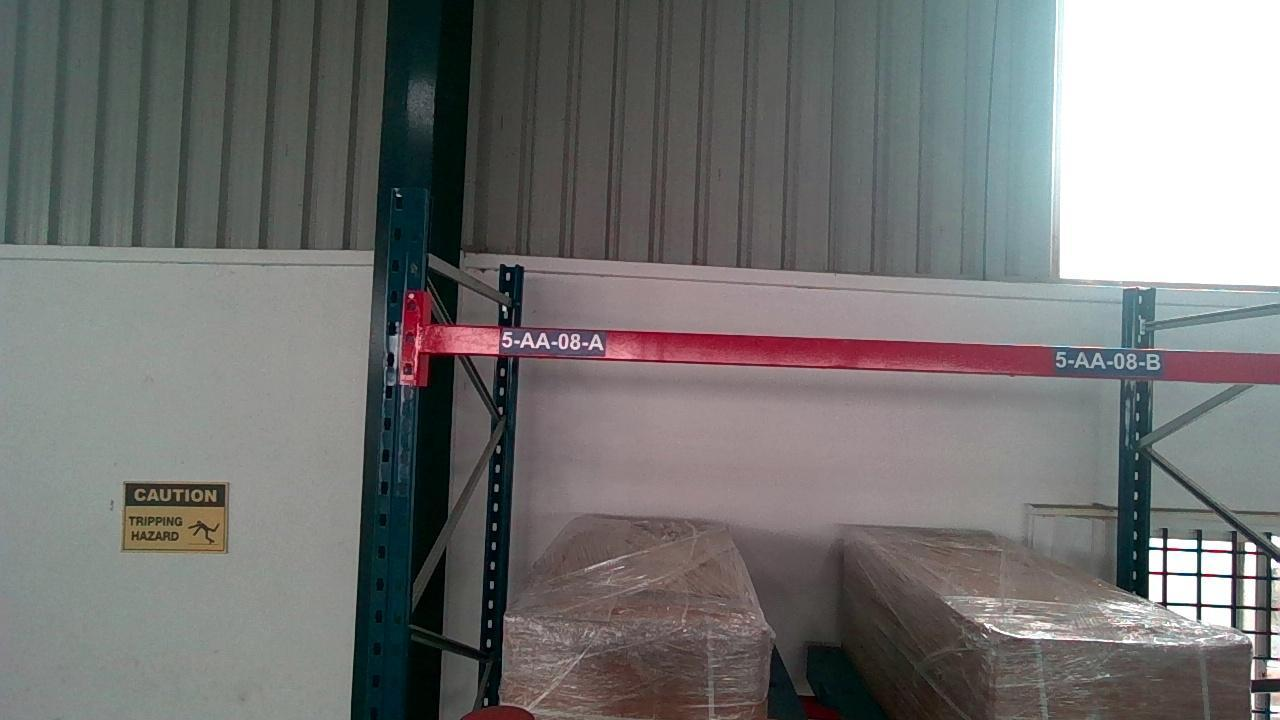h_rack: (423, 325, 1280, 381)
